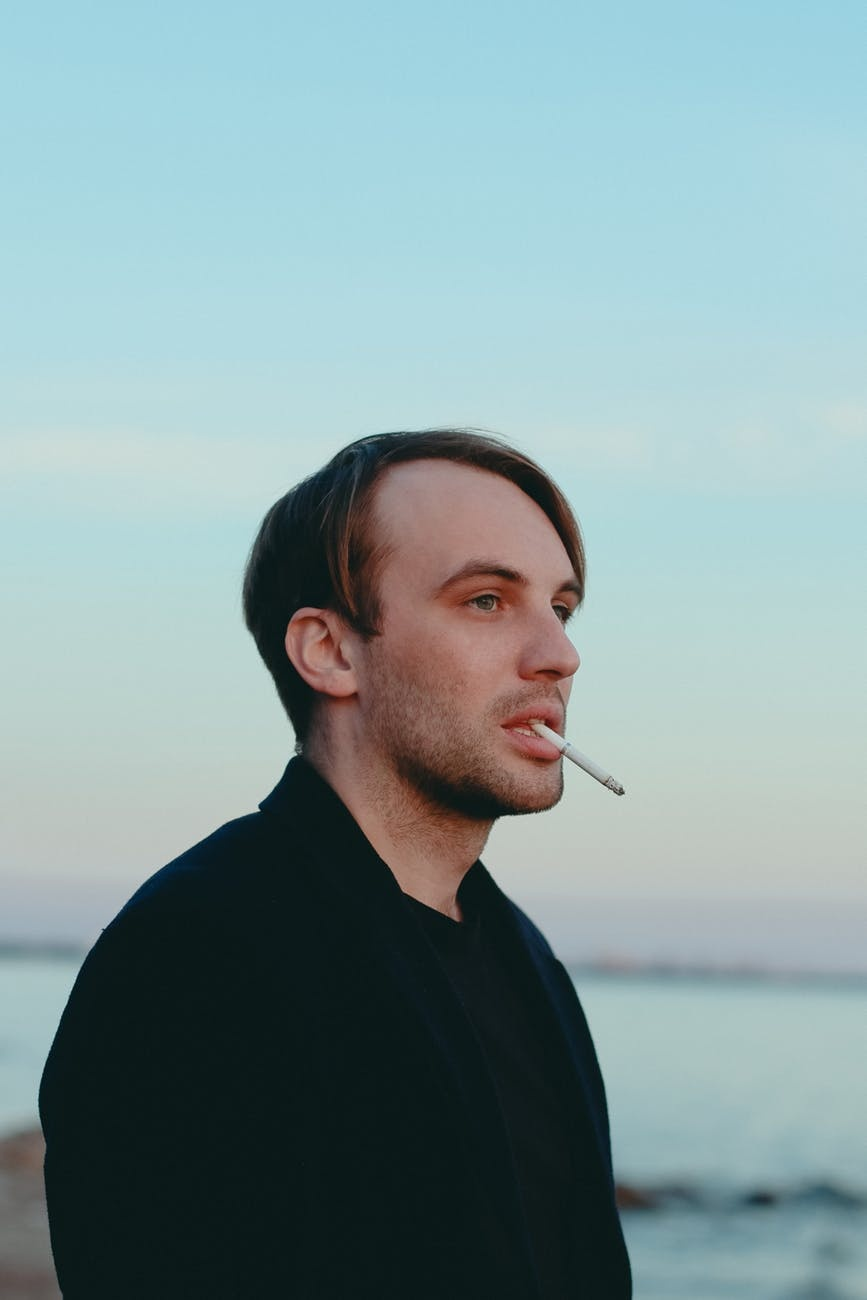sigaretta: (522, 712, 636, 802)
